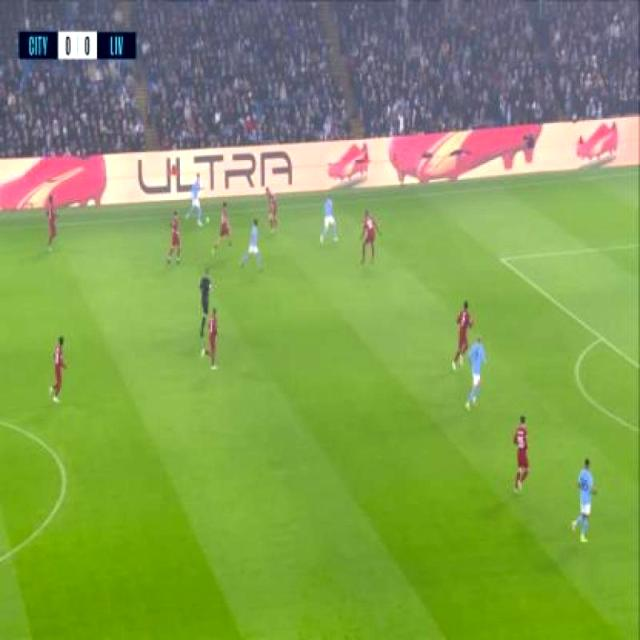bigarea_top_inner: (490, 237, 516, 283)
top_arc_area_intersection: (591, 314, 619, 364)
